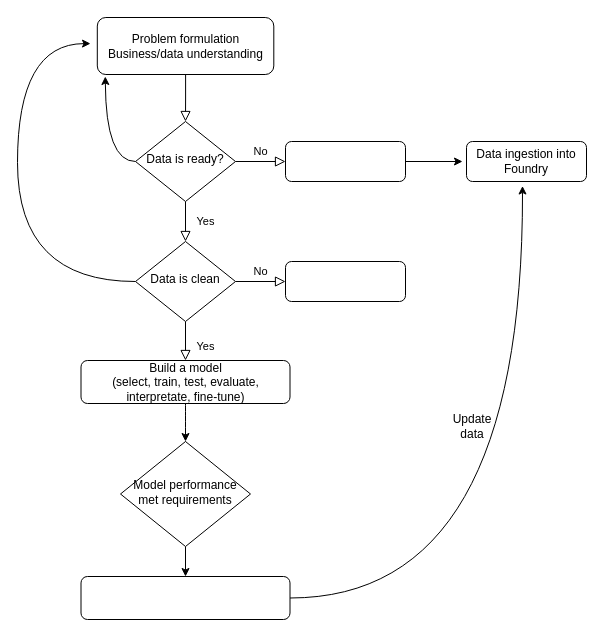
Some shapes in this 604 by 637 pixel diagram are drawn without their labels. The centre of each missing label's shape, as x and y in pixels:
DIR/DER: point (345, 161)
Model deployment & monitoring: point (185, 598)
Preprocess data: point (345, 281)
